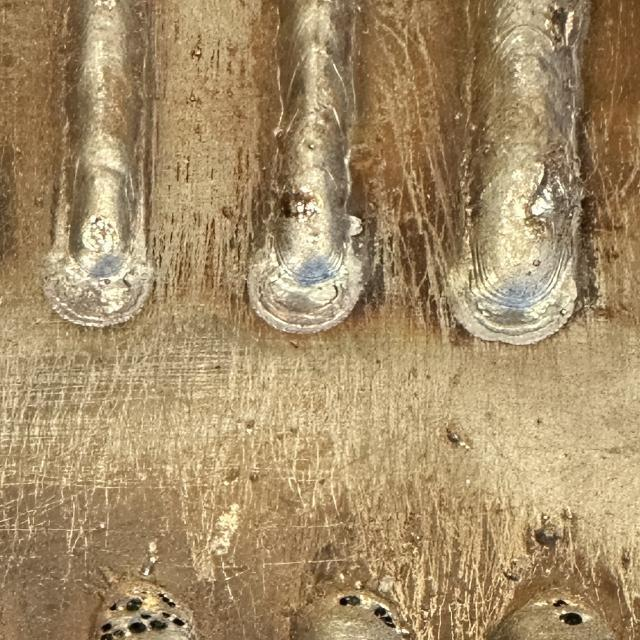Excess Reinforcement: (447, 259, 578, 344), (248, 242, 363, 333), (43, 252, 152, 327), (348, 215, 363, 236)
Porosity: (373, 605, 397, 628), (558, 611, 583, 626), (338, 595, 362, 606), (128, 621, 147, 634), (159, 594, 175, 608), (125, 598, 142, 611), (151, 620, 167, 631), (553, 599, 568, 608), (172, 618, 185, 626), (100, 632, 113, 640), (102, 622, 112, 632), (112, 630, 125, 637), (140, 612, 152, 619), (162, 612, 172, 618), (110, 604, 117, 609)
Spatters: (533, 516, 562, 549), (348, 215, 363, 236), (448, 429, 462, 445), (503, 571, 520, 581), (562, 506, 575, 519), (190, 45, 202, 58), (192, 46, 202, 59), (147, 555, 158, 566), (188, 94, 200, 102), (290, 341, 300, 349), (143, 568, 150, 576), (510, 558, 518, 564), (308, 144, 315, 149)
